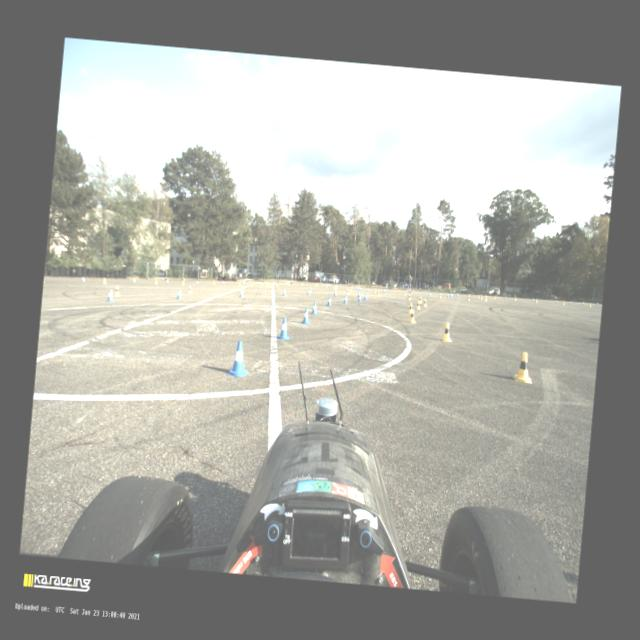blue_cone: (226, 338, 250, 378), (276, 316, 291, 340), (300, 306, 310, 324), (106, 288, 115, 302), (310, 300, 318, 314), (175, 288, 182, 299), (326, 296, 332, 306), (238, 289, 244, 297), (343, 294, 348, 303), (363, 292, 368, 300), (282, 288, 286, 296), (357, 294, 361, 302), (356, 290, 361, 296), (80, 276, 85, 282), (306, 288, 310, 295), (446, 292, 449, 298), (132, 278, 136, 282), (449, 292, 452, 297), (334, 289, 336, 295), (166, 278, 168, 284), (366, 286, 368, 292), (428, 291, 430, 296), (196, 280, 198, 284), (222, 280, 224, 284), (242, 280, 244, 284), (258, 280, 260, 284), (350, 284, 352, 288), (354, 285, 356, 289), (356, 286, 358, 290), (358, 286, 360, 290), (359, 286, 361, 290), (383, 288, 385, 292), (456, 292, 458, 296), (504, 295, 506, 299), (532, 298, 534, 302), (555, 299, 557, 303), (569, 300, 571, 304), (285, 282, 287, 285), (596, 302, 598, 305), (272, 282, 274, 284), (582, 302, 584, 304), (317, 283, 318, 286), (328, 284, 329, 286), (484, 294, 485, 296), (302, 282, 302, 286), (340, 284, 340, 288)
yellow_cone: (512, 351, 534, 384), (442, 322, 454, 342), (408, 308, 417, 324), (114, 285, 121, 296), (186, 284, 192, 294), (415, 300, 421, 310), (408, 302, 413, 313), (422, 298, 428, 306), (418, 295, 422, 303), (407, 293, 411, 300), (102, 277, 106, 284), (268, 286, 272, 292), (308, 286, 312, 292), (346, 288, 350, 294), (376, 290, 380, 296), (588, 302, 592, 307), (240, 286, 243, 292), (438, 292, 441, 298), (466, 295, 469, 301), (349, 286, 352, 292), (403, 290, 406, 295), (154, 279, 157, 284), (484, 296, 487, 301), (562, 300, 565, 305), (182, 278, 184, 284), (238, 280, 240, 286), (213, 280, 215, 285), (334, 285, 336, 290), (332, 284, 334, 289), (477, 293, 479, 298), (480, 294, 482, 299), (260, 282, 262, 286), (276, 281, 278, 285), (314, 282, 316, 286), (335, 284, 337, 288), (374, 288, 376, 292), (493, 294, 495, 298), (514, 296, 516, 300), (535, 298, 537, 302), (300, 282, 302, 285), (288, 282, 289, 285), (326, 284, 326, 287)
